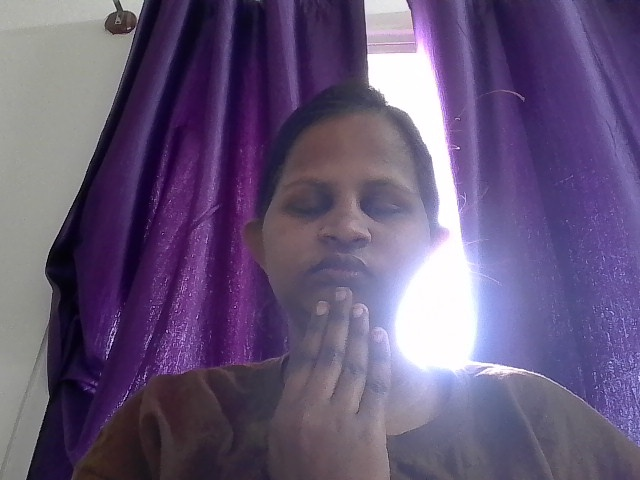THANK YOU: (195, 223, 485, 480)
